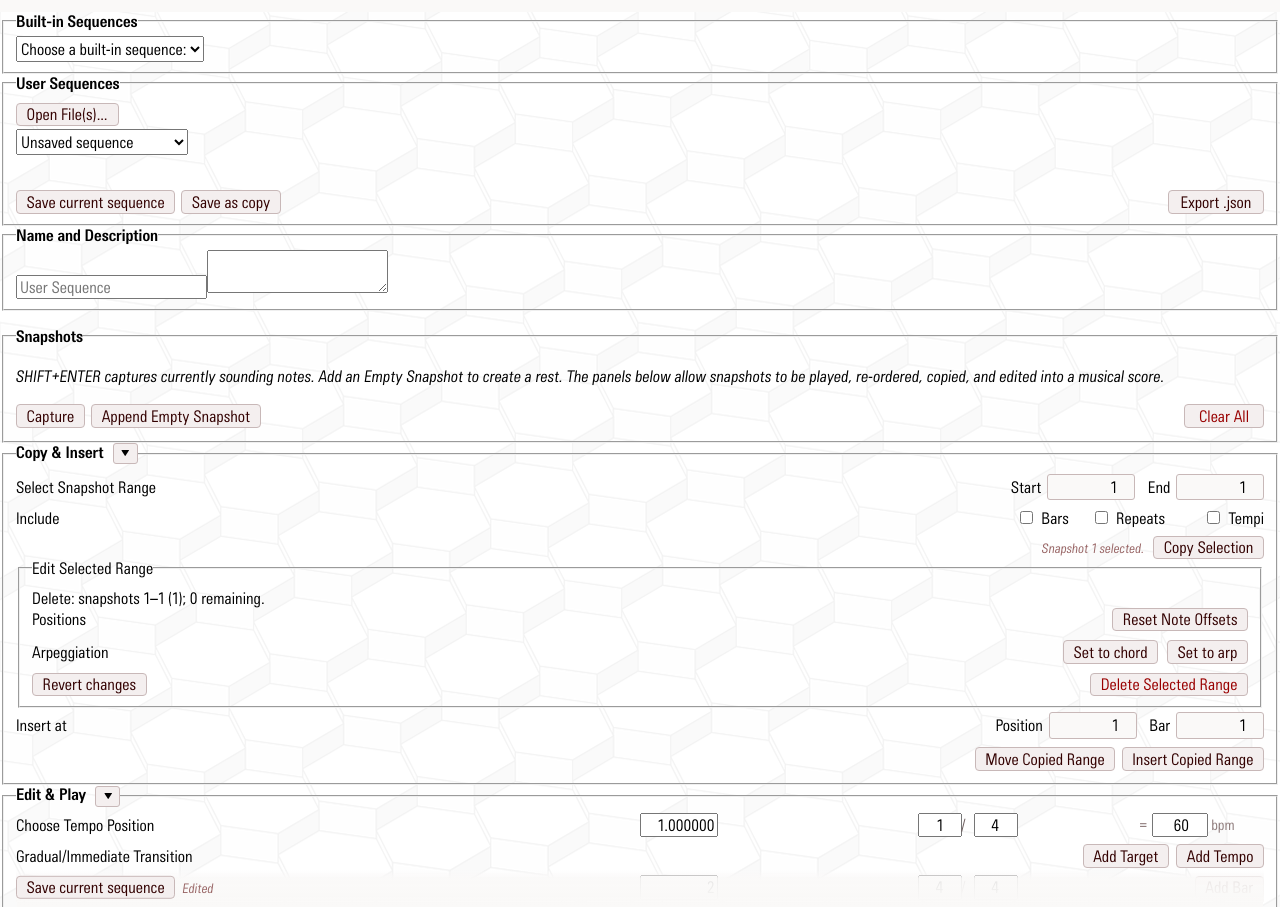
Test case: Sequencer › resets note offsets in place from the Copy & Insert controls
What coordinates should you click on to do the following:
click the button "Reset Note Offsets"
I would click on:
 (1180, 619)
Its box is [1112,608,1248,631].
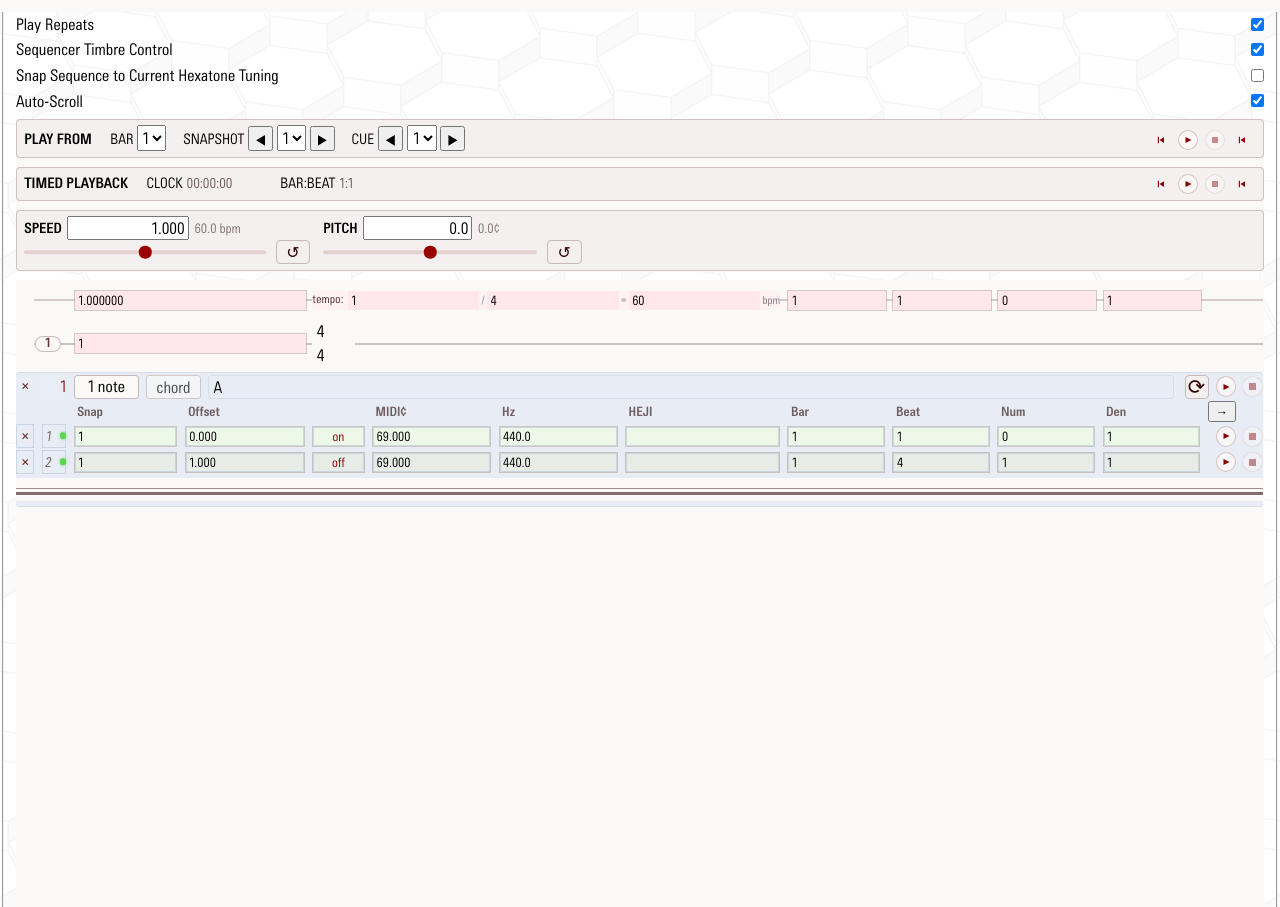
Result: the field named "snapshot 1 attack offset" holds "0.000" at [186,427,304,446]
Result: the field named "snapshot 1 release offset" holds "1.000" at [186,453,304,472]
